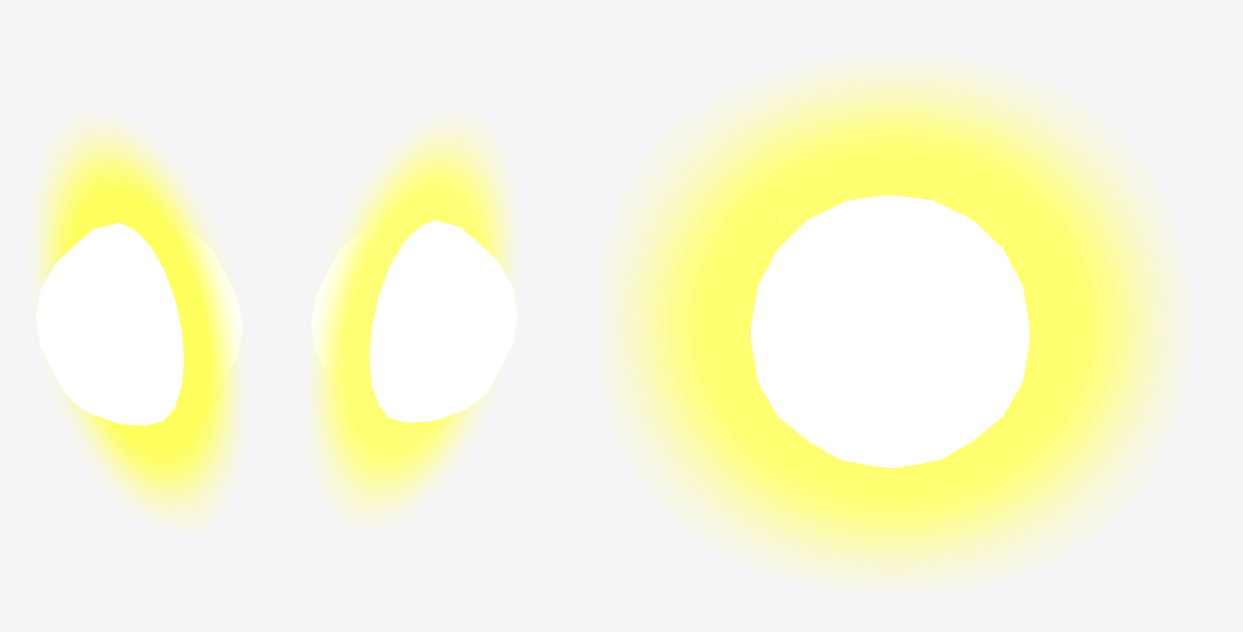
File: 18fff217-be8c-402a-890c-be1f7287ae97.glb
3 renders of one model, left to right at view 1: azimuth 30°, elevation 25°; view 2: azimuth 150°, elevation 25°; view 3: azimuth 270°, elevation 25°, orthographic. The views are drawn at different scales.
Parts seen in each view (by area): view 1: Plane; view 2: Plane; view 3: Plane.
Boxes of the visible parts, left/top/right/bottom form: Plane: left=35, top=124, right=242, bottom=519; Plane: left=311, top=124, right=517, bottom=517; Plane: left=611, top=68, right=1175, bottom=579.
Bounding box in the file's own units: 0.103 × 0.2346 × 0.2343.
2 materials, 1 textured.
